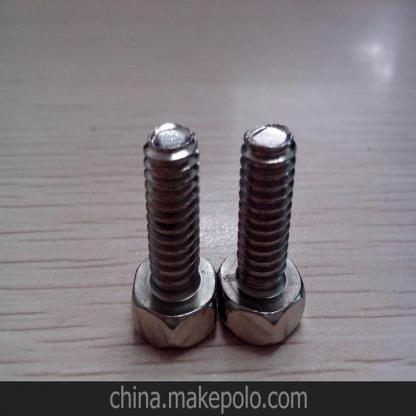FOD: (216, 115, 309, 352), (128, 118, 215, 355)
